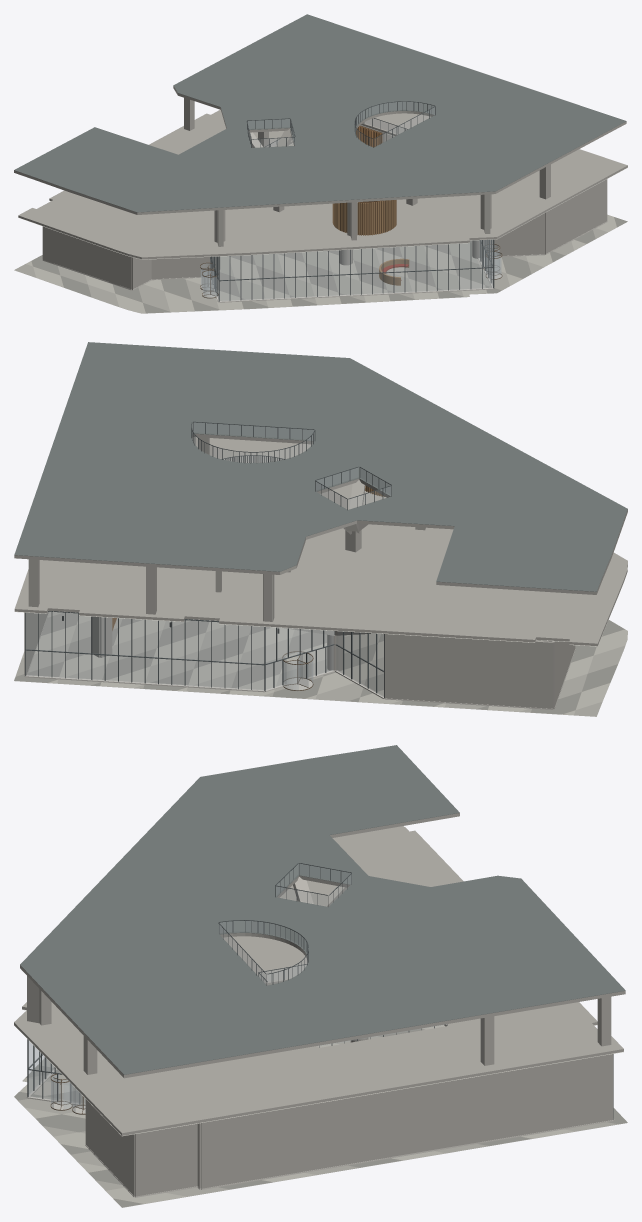
File: mar-interior.glb
The picture shows the model from 3 angles, top to bottom: view 1: azimuth 30°, elevation 25°; view 2: azimuth 150°, elevation 25°; view 3: azimuth 270°, elevation 25°; orthographic projection. The views are drawn at different scales.
Visible parts, largest first — view 1: MAR_INTERIOR; view 2: MAR_INTERIOR; view 3: MAR_INTERIOR.
Boxes of the visible parts, x1,y1,x2,y2 form: MAR_INTERIOR: (14,14,627,313); MAR_INTERIOR: (14,342,627,716); MAR_INTERIOR: (14,745,627,1207).
Bounding box in the file's own units: 67.69 × 13.88 × 53.21.
